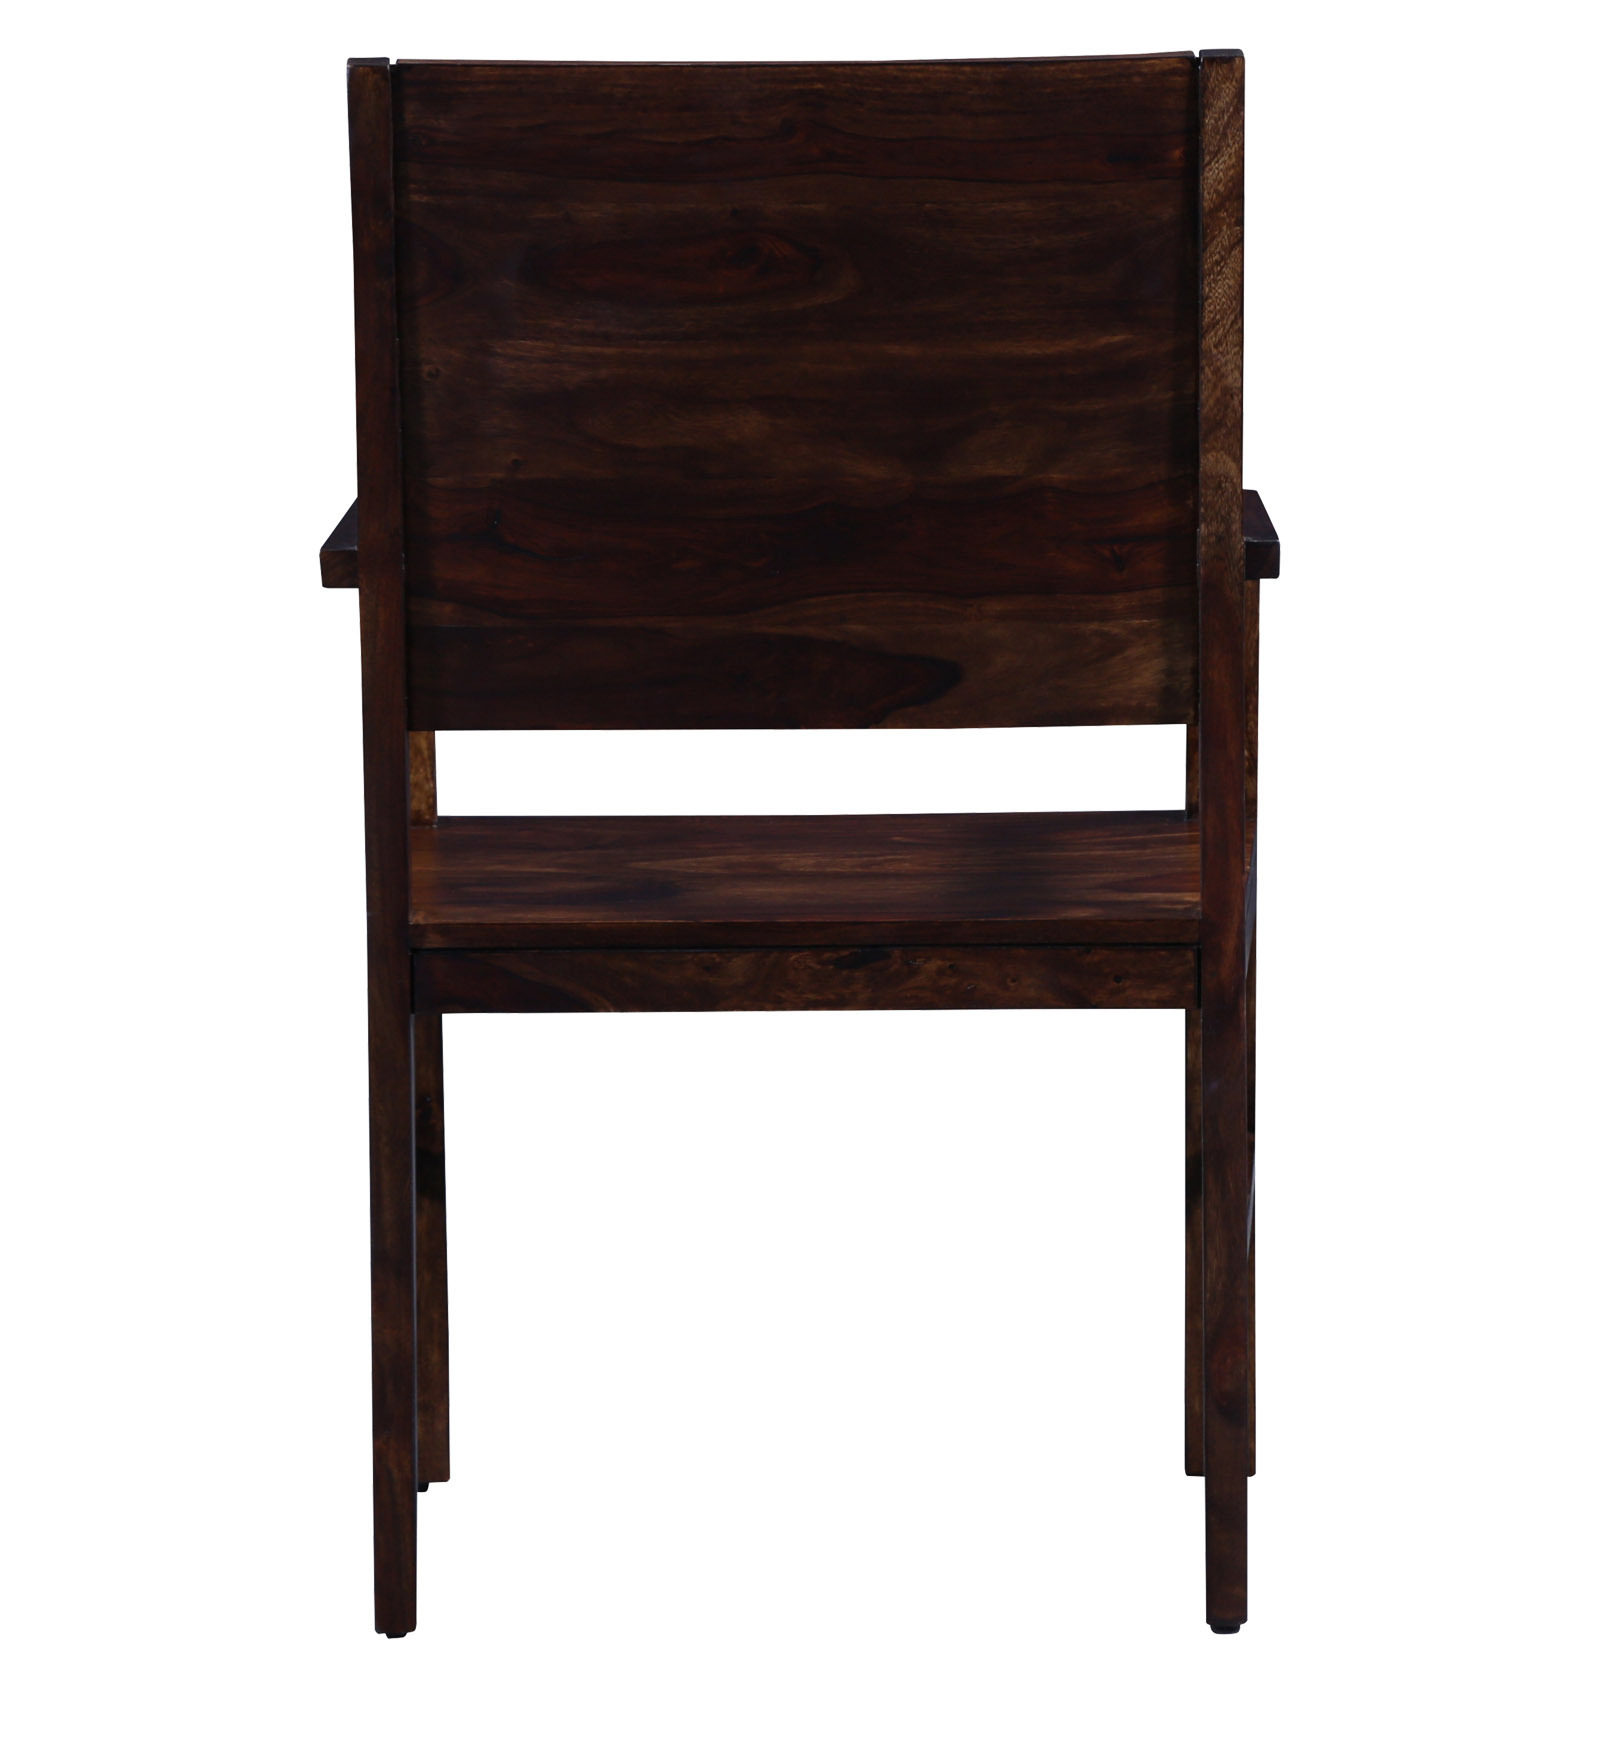Oriel Arm Chair in Provincial Teak Finish by Woodsworth: (313, 48, 1301, 1637)
